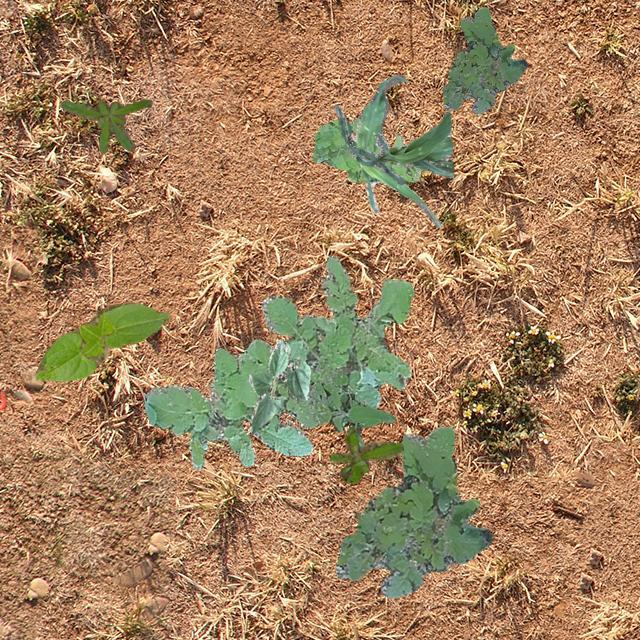crop: (334, 74, 439, 226), (34, 302, 168, 381), (338, 112, 452, 184), (247, 338, 310, 434)
weed: (144, 254, 412, 468), (334, 426, 492, 596), (442, 7, 526, 112), (307, 364, 393, 446), (312, 116, 420, 180), (60, 99, 150, 152), (328, 426, 402, 482)
